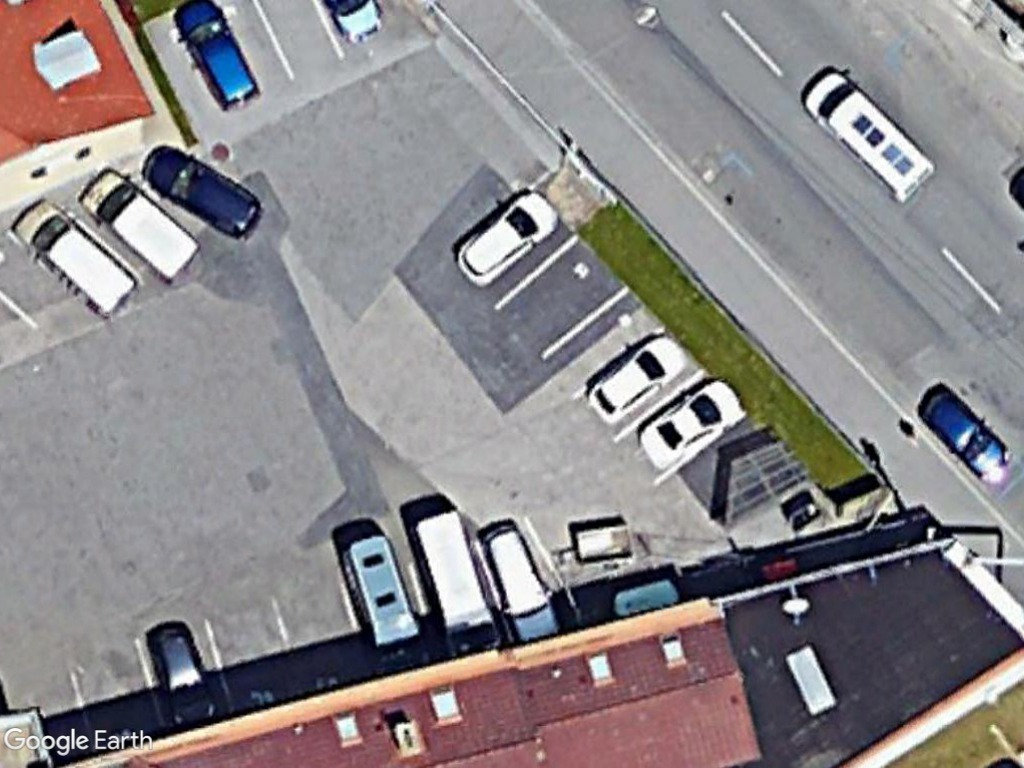car: (140, 144, 265, 245), (449, 185, 559, 292), (918, 386, 1018, 489), (167, 0, 264, 106), (584, 331, 690, 427), (638, 375, 744, 471)
van: (794, 62, 939, 208), (5, 194, 148, 324), (75, 169, 207, 284)
